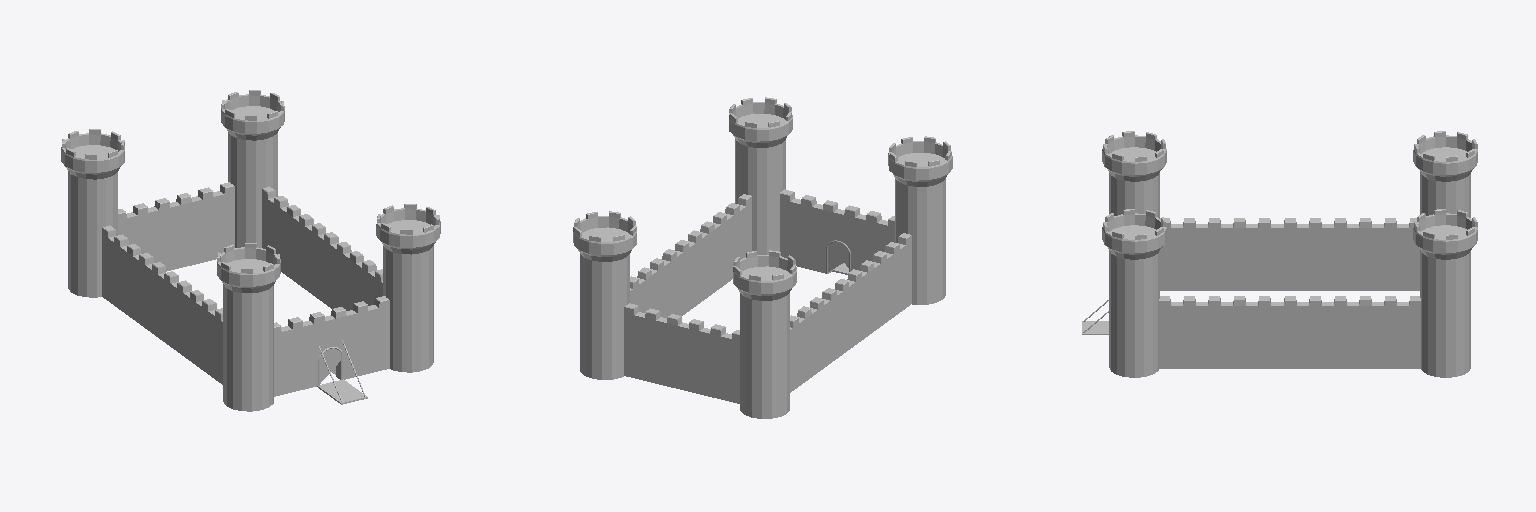
The model's file is Castle.obj.
3 renders of one model, left to right at view 1: azimuth 30°, elevation 25°; view 2: azimuth 150°, elevation 25°; view 3: azimuth 270°, elevation 25°, orthographic.
Parts seen in each view (by area): view 1: LongWall_Cube.001, Tower_Cylinder, Tower2_Cylinder.001, Tower3_Cylinder.002, Tower4_Cylinder.003, Wall.001_Cube.004, Wall2.001_Cube.008, LongWall2.001_Cube.006, LongWall2_Cube.003, Wall_Cube.002, Wall2_Cube.005, Elevator_Bridge_Cube.007; view 2: LongWall_Cube.001, Tower3_Cylinder.002, Tower4_Cylinder.003, Tower_Cylinder, Tower2_Cylinder.001, Wall2.001_Cube.008, Wall.001_Cube.004, LongWall2.001_Cube.006, LongWall2_Cube.003, Wall2_Cube.005, Wall_Cube.002; view 3: LongWall_Cube.001, LongWall2.001_Cube.006, Tower2_Cylinder.001, Tower4_Cylinder.003, Tower_Cylinder, Tower3_Cylinder.002, LongWall2_Cube.003.
Boxes of the visible parts, <box> form: LongWall_Cube.001: <box>102,225,222,384</box>; Tower_Cylinder: <box>217,243,280,411</box>; Tower2_Cylinder.001: <box>376,204,440,372</box>; Tower3_Cylinder.002: <box>61,129,124,297</box>; Tower4_Cylinder.003: <box>221,90,284,247</box>; Wall.001_Cube.004: <box>274,296,389,396</box>; Wall2.001_Cube.008: <box>118,182,234,271</box>; LongWall2.001_Cube.006: <box>262,186,382,310</box>; LongWall2_Cube.003: <box>262,187,382,310</box>; Wall_Cube.002: <box>274,297,389,394</box>; Wall2_Cube.005: <box>118,183,234,269</box>; Elevator_Bridge_Cube.007: <box>317,340,367,404</box>; LongWall_Cube.001: <box>790,233,911,392</box>; Tower3_Cylinder.002: <box>733,250,796,418</box>; Tower4_Cylinder.003: <box>573,211,636,379</box>; Tower_Cylinder: <box>888,136,952,304</box>; Tower2_Cylinder.001: <box>729,97,792,254</box>; Wall2.001_Cube.008: <box>624,303,739,403</box>; Wall.001_Cube.004: <box>780,189,894,273</box>; LongWall2.001_Cube.006: <box>630,194,751,317</box>; LongWall2_Cube.003: <box>630,195,751,317</box>; Wall2_Cube.005: <box>624,305,739,401</box>; Wall_Cube.002: <box>780,190,894,272</box>; LongWall_Cube.001: <box>1160,218,1419,290</box>; LongWall2.001_Cube.006: <box>1159,296,1420,368</box>; Tower2_Cylinder.001: <box>1102,209,1166,377</box>; Tower4_Cylinder.003: <box>1413,209,1477,377</box>; Tower_Cylinder: <box>1102,131,1166,218</box>; Tower3_Cylinder.002: <box>1413,131,1477,217</box>; LongWall2_Cube.003: <box>1159,296,1420,368</box>.
Size of the model in its own units: 7.16 by 4.63 by 11.4.